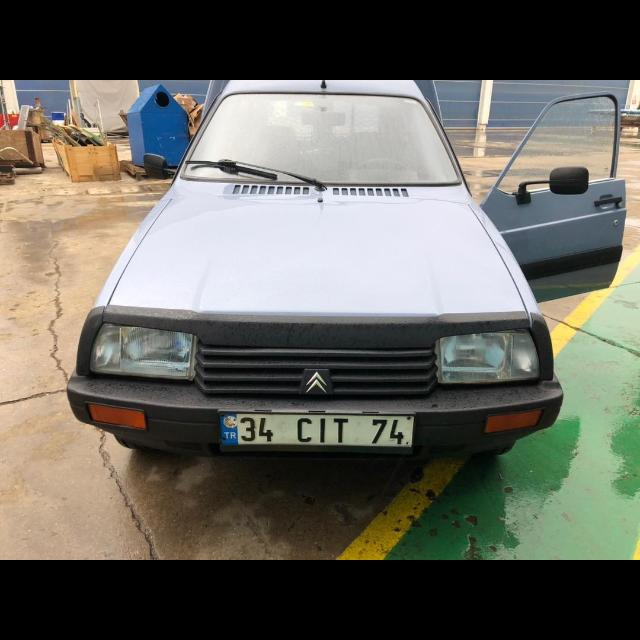Plaka: (220, 416, 414, 446)
